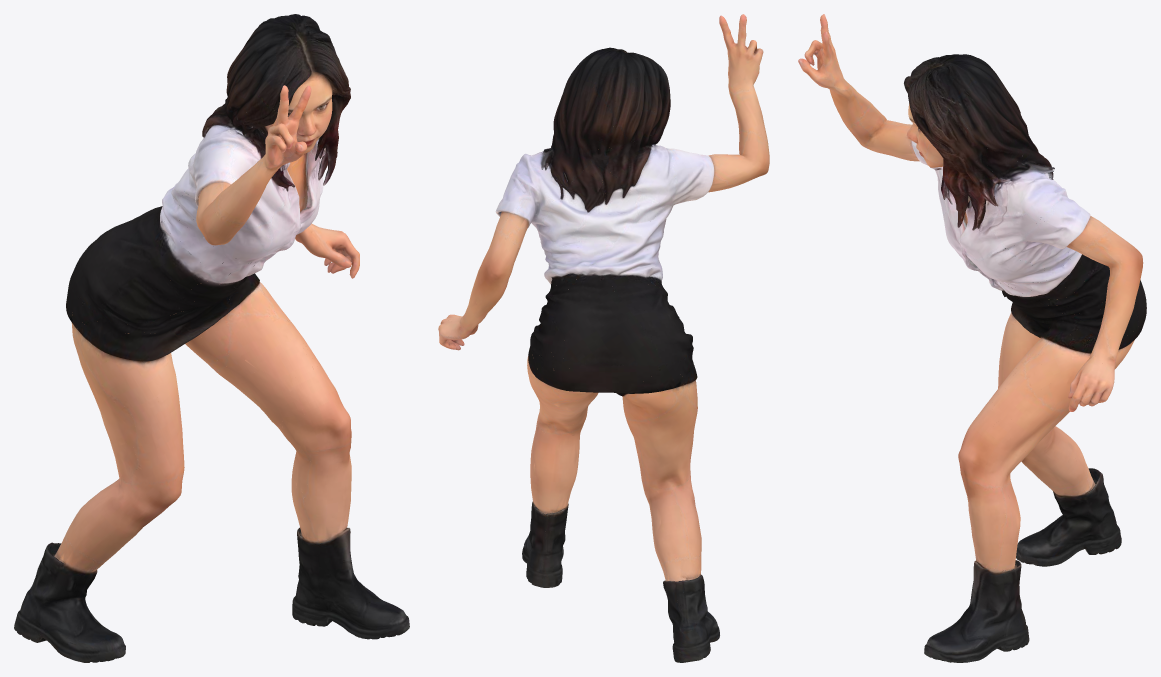
File: SUP_thai_student_v9.glb
The picture shows the model from 3 angles, left to right: view 1: azimuth 30°, elevation 25°; view 2: azimuth 150°, elevation 25°; view 3: azimuth 270°, elevation 25°; orthographic projection. The views are drawn at different scales.
Parts seen in each view (by area): view 1: SUP_thai_student_v9; view 2: SUP_thai_student_v9; view 3: SUP_thai_student_v9.
Part boxes in pixels (left/top/right/bottom): SUP_thai_student_v9: left=14, top=14, right=409, bottom=662; SUP_thai_student_v9: left=438, top=14, right=769, bottom=662; SUP_thai_student_v9: left=798, top=14, right=1146, bottom=662.
Size of the model in its own units: 0.533 by 0.9999 by 0.55.
1 material, 1 textured.
